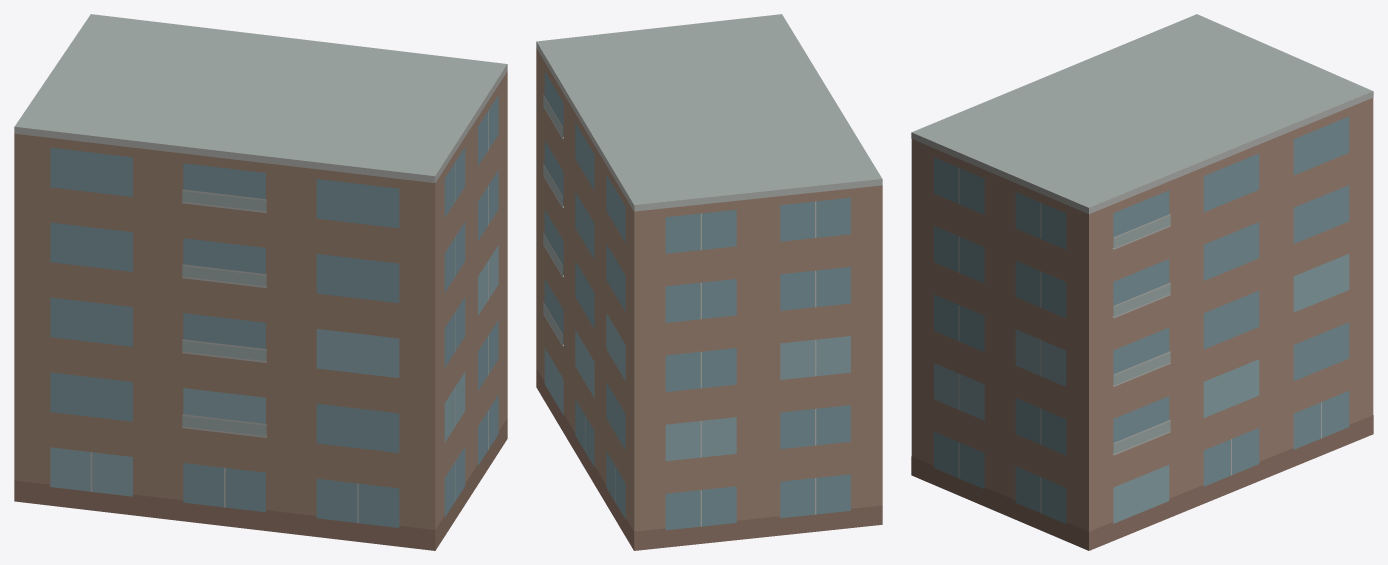
File: survey-upis-33033500.glb
3 renders of one model, left to right at view 1: azimuth 30°, elevation 25°; view 2: azimuth 150°, elevation 25°; view 3: azimuth 270°, elevation 25°, orthographic. The views are drawn at different scales.
Visible parts, largest first — view 1: survey-upis-33033500.tmp; view 2: survey-upis-33033500.tmp; view 3: survey-upis-33033500.tmp.
Part boxes in pixels (bbox=[...]): survey-upis-33033500.tmp: bbox=[14, 14, 507, 550]; survey-upis-33033500.tmp: bbox=[536, 14, 882, 550]; survey-upis-33033500.tmp: bbox=[911, 14, 1373, 550].
Size of the model in its own units: 16.02 by 13.2 by 16.12.
